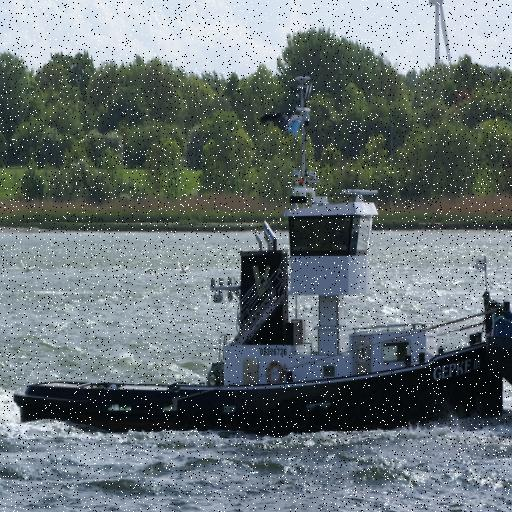tugboat: (9, 176, 508, 451)
